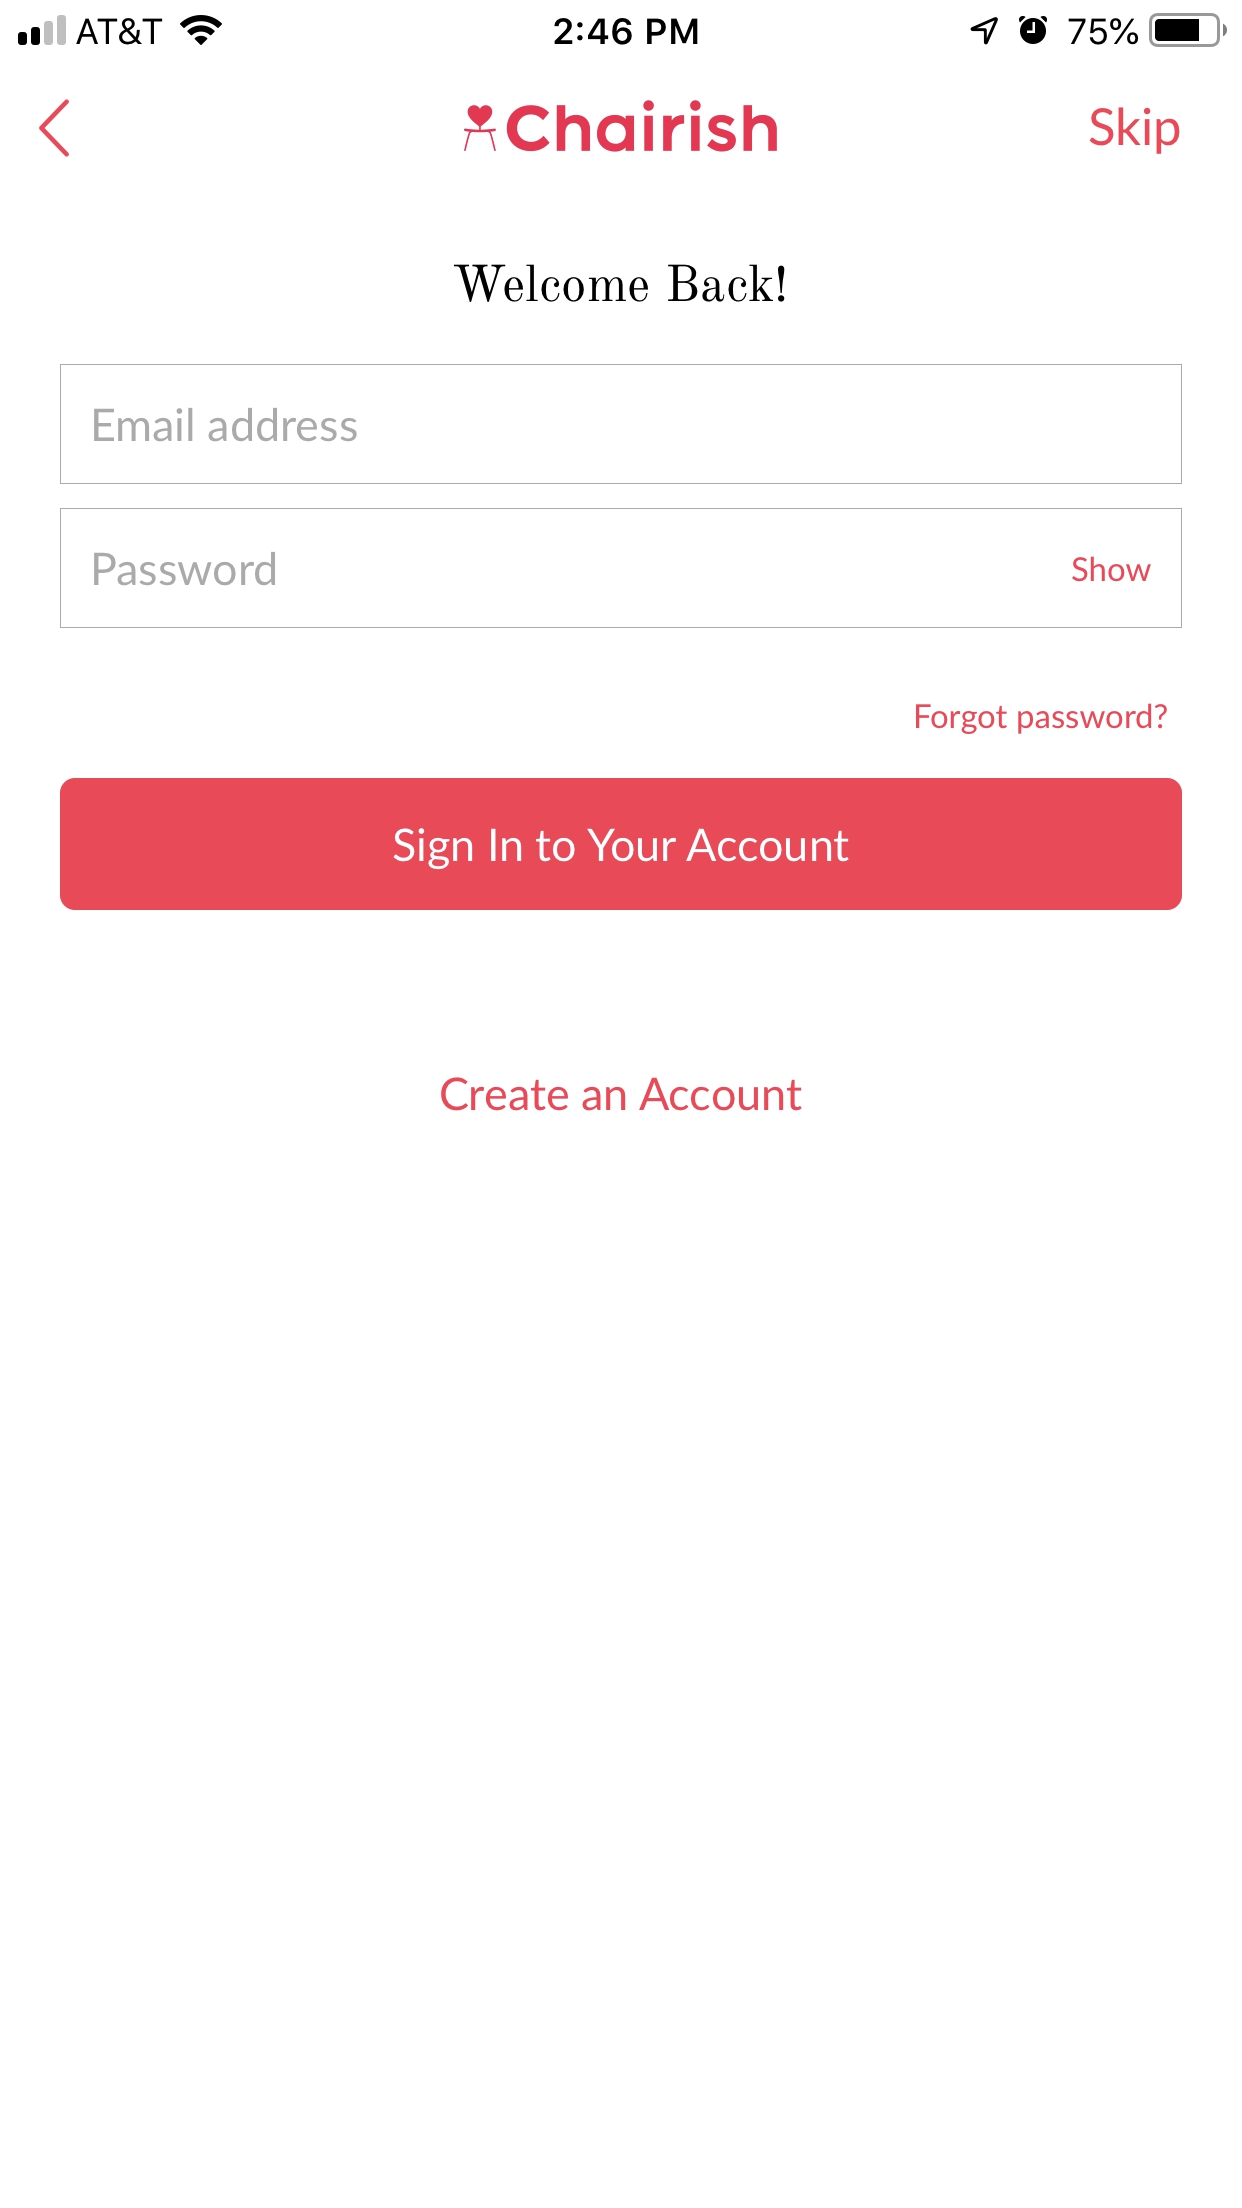EditText: (61, 365, 1181, 485), (61, 510, 1181, 629)
Icon: (39, 99, 71, 159)
Image: (463, 105, 497, 153)
Text: (507, 99, 779, 153), (453, 264, 786, 303), (441, 1077, 804, 1112), (96, 408, 358, 443), (914, 704, 1168, 735), (96, 552, 276, 587), (1089, 108, 1180, 156), (1071, 557, 1153, 582)
TextButton: (61, 776, 1183, 911)
UpperTaskBar: (2, 2, 1242, 49)
